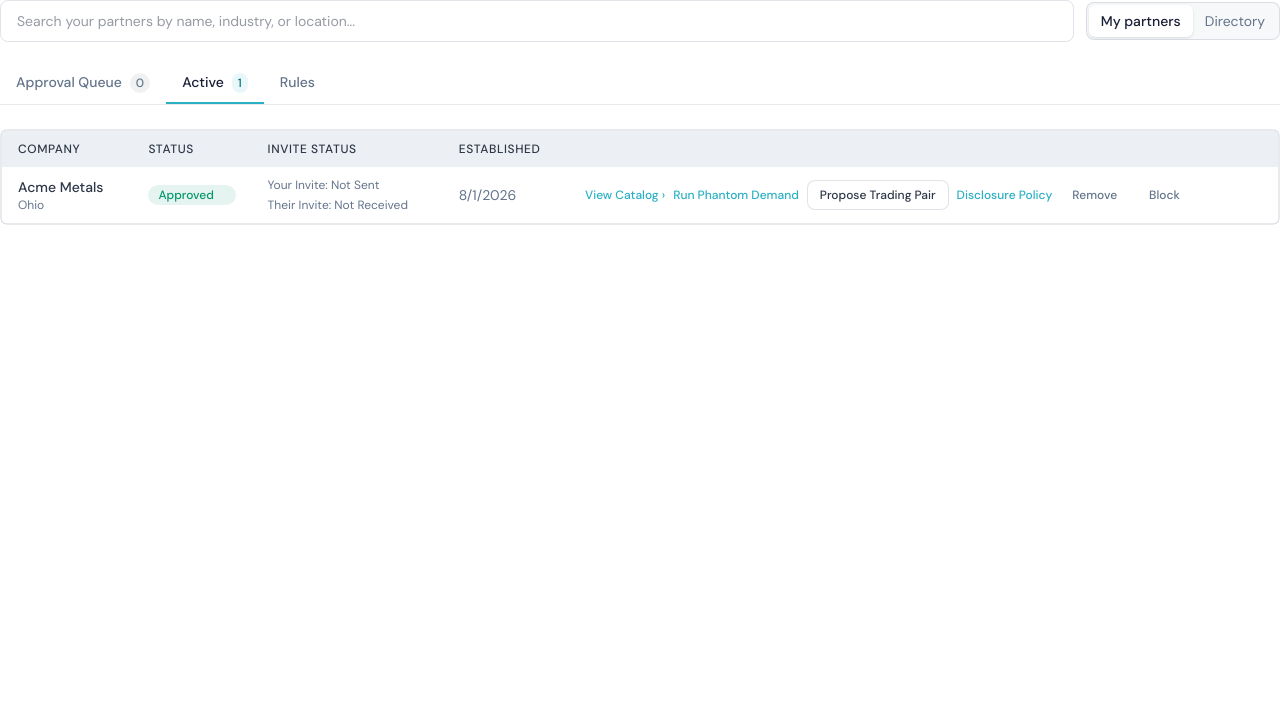
Test case: PartnersPanel — remove partnership (SEC-web-account-1-02, §L-26 closed by haiCore D-214) › Remove → confirm posts target_state none for the partner's connection, drops the row, and toasts
The width and height of the screenshot is (1280, 720).
expect the text "Acme Metals" is shown: met, box [18, 177, 116, 197]
Click the button "Remove": (1095, 195) [1060, 181, 1129, 209]
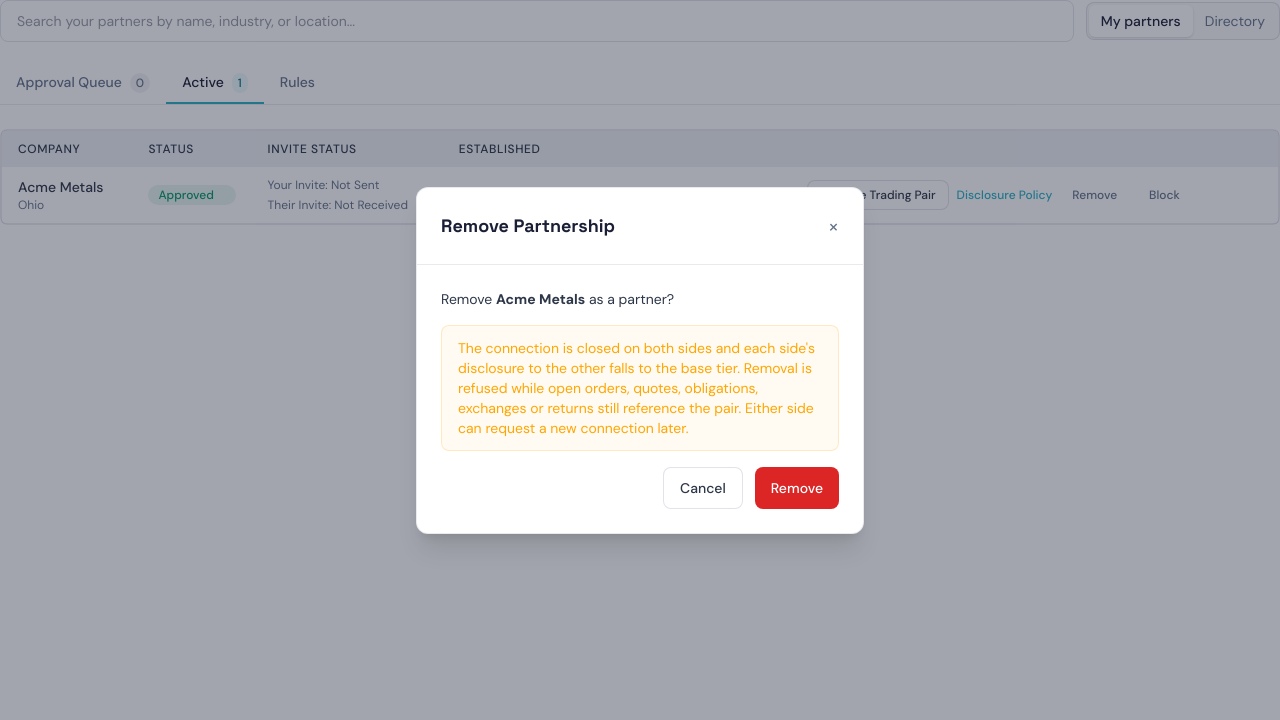
Click the button "Remove": (797, 488) [755, 466, 839, 508]
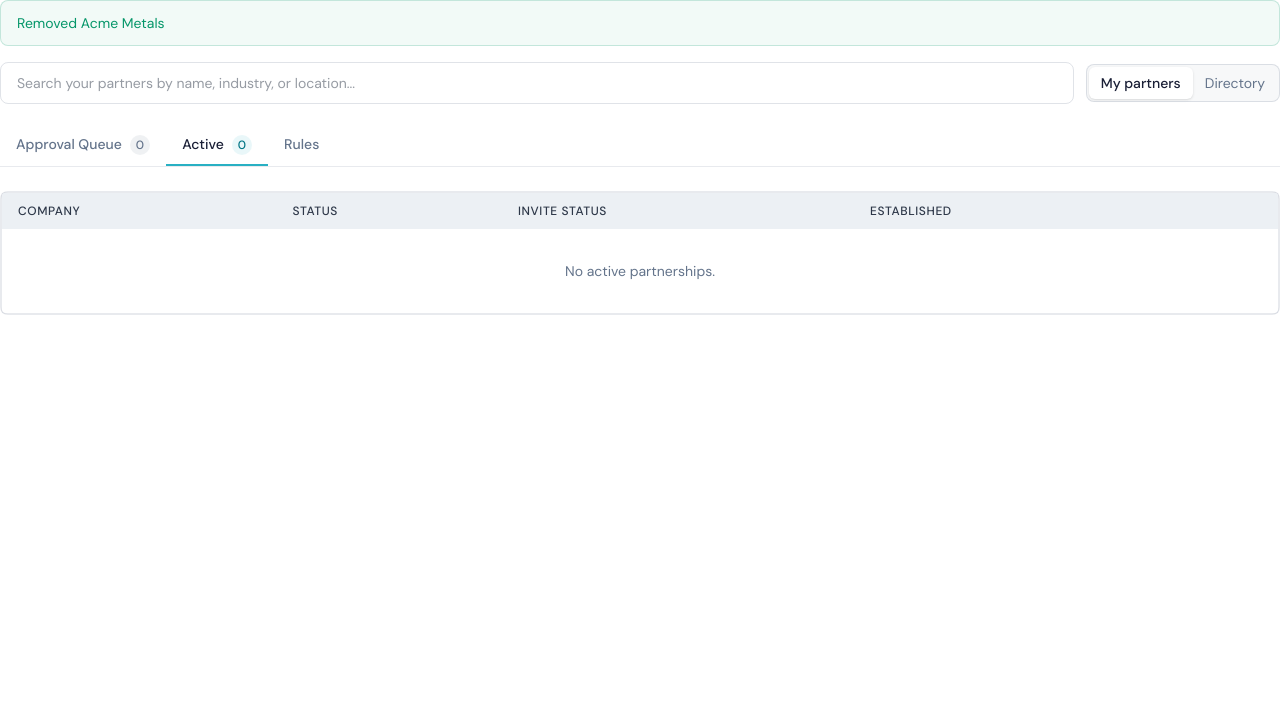
expect the text "Removed Acme Metals" is shown: met, box [0, 0, 1279, 46]
